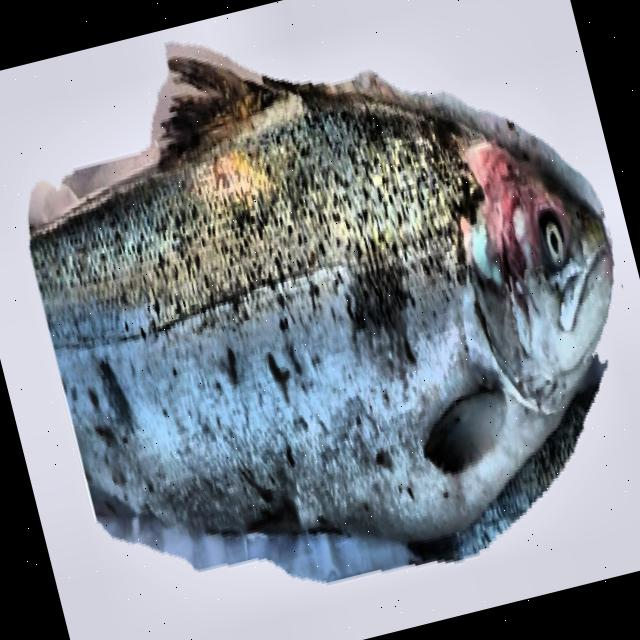mild_red: (29, 104, 545, 536)
wound: (467, 144, 569, 277)
